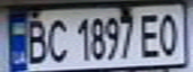1: (72, 14, 90, 62)
7: (118, 10, 139, 60)
8: (87, 12, 106, 61)
9: (103, 12, 124, 60)
B: (21, 16, 51, 65)
C: (45, 15, 69, 63)
E: (136, 10, 163, 60)
O: (154, 9, 184, 57)
